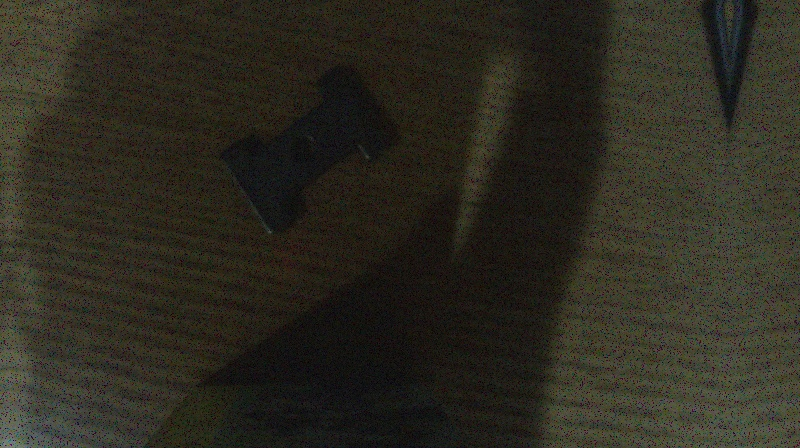O002: (217, 61, 402, 238)
